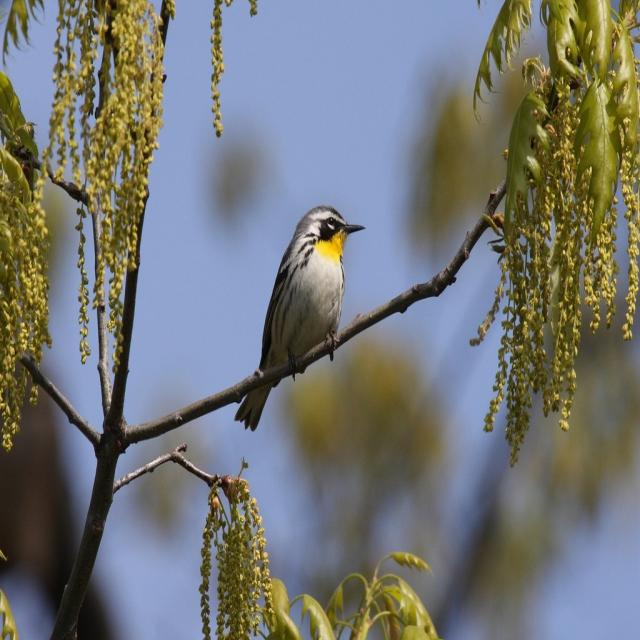bird: (254, 194, 364, 440)
